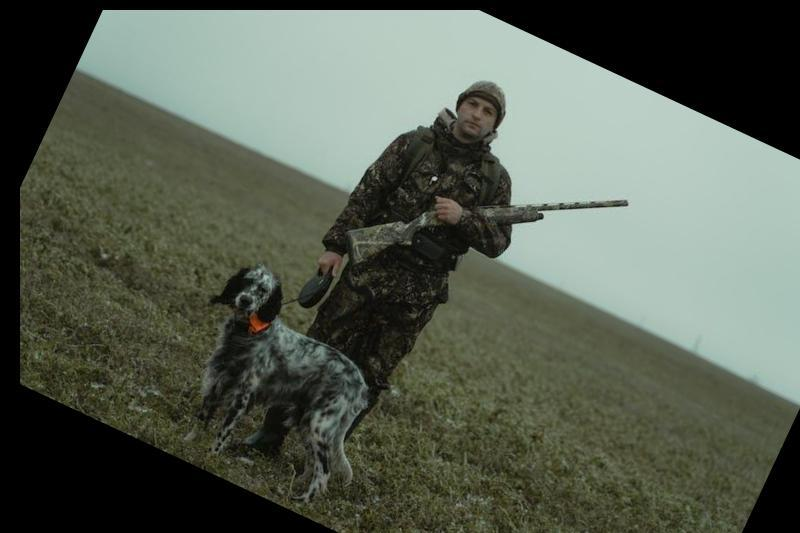larga: (344, 198, 630, 266)
